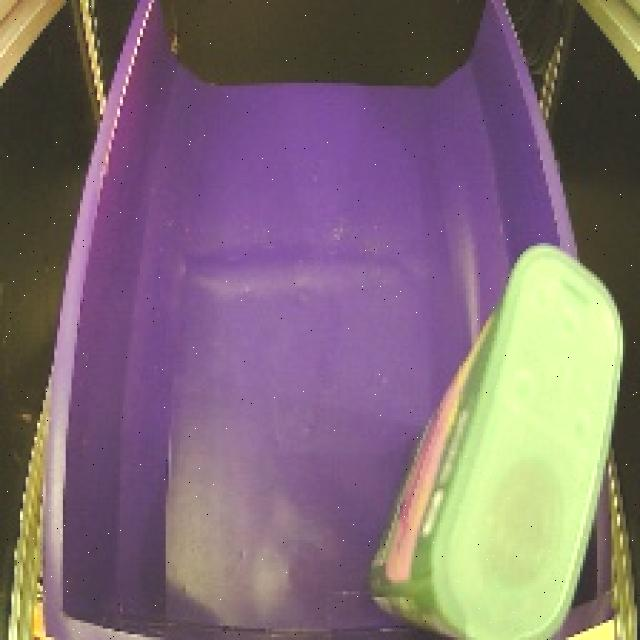metal: (363, 228, 640, 640)
